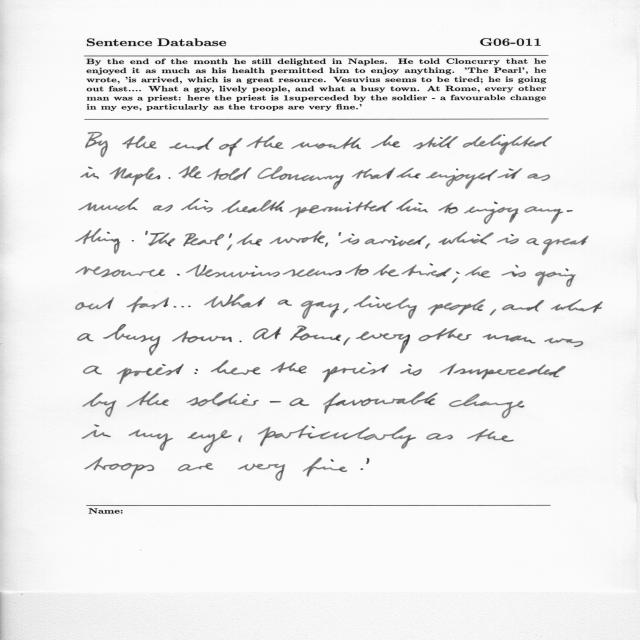word: (258, 425, 416, 449), (323, 392, 438, 414), (258, 166, 344, 190), (439, 364, 566, 380), (449, 394, 525, 419), (463, 134, 552, 155), (103, 324, 160, 356), (289, 201, 393, 218), (353, 295, 417, 319), (85, 457, 154, 479), (426, 169, 498, 190), (117, 364, 184, 384), (322, 362, 389, 382), (186, 264, 280, 278), (464, 202, 518, 225), (356, 332, 410, 354), (76, 228, 121, 254), (187, 430, 232, 453), (186, 392, 259, 406), (128, 429, 173, 451), (76, 267, 165, 278), (110, 167, 161, 186), (428, 299, 486, 315), (542, 236, 589, 255), (524, 206, 573, 224), (303, 457, 347, 477), (204, 294, 266, 308), (83, 392, 117, 417), (291, 137, 361, 149), (221, 200, 285, 213), (290, 325, 341, 341), (238, 464, 285, 481), (438, 231, 494, 245), (79, 198, 139, 211), (535, 268, 576, 287), (211, 360, 261, 375), (269, 231, 325, 244), (551, 299, 603, 313), (172, 331, 232, 343), (127, 296, 169, 313), (418, 328, 472, 341), (126, 391, 169, 407), (301, 301, 339, 319), (365, 236, 427, 247), (401, 264, 452, 277), (467, 429, 514, 442), (413, 136, 459, 149), (169, 137, 214, 150), (207, 167, 252, 180), (86, 132, 108, 157), (184, 233, 225, 246), (246, 135, 284, 149), (483, 334, 536, 344), (76, 297, 114, 310), (352, 168, 396, 179), (181, 198, 213, 213), (396, 198, 428, 213), (283, 269, 342, 277), (502, 300, 544, 311), (122, 136, 157, 149), (219, 138, 242, 157), (271, 362, 307, 374), (82, 425, 111, 439), (148, 233, 175, 247), (371, 135, 400, 148), (253, 327, 281, 340), (544, 338, 583, 347), (373, 264, 399, 277), (237, 233, 262, 246), (465, 266, 491, 278), (501, 265, 526, 277), (179, 166, 202, 179), (345, 264, 369, 276), (178, 463, 214, 471), (396, 168, 421, 179), (497, 168, 522, 179), (400, 364, 422, 376), (80, 166, 99, 179), (438, 202, 458, 214), (497, 234, 519, 244), (340, 234, 359, 245), (426, 433, 453, 440), (528, 173, 550, 181), (83, 366, 102, 375), (289, 398, 310, 406), (153, 204, 173, 212), (77, 333, 94, 341), (278, 299, 292, 306), (526, 238, 539, 245), (452, 272, 460, 283), (344, 338, 351, 346), (227, 245, 233, 251), (173, 306, 191, 308), (490, 309, 496, 315), (426, 243, 431, 249), (343, 309, 349, 314), (239, 435, 243, 442), (366, 458, 370, 464), (270, 401, 281, 403), (194, 369, 198, 374), (229, 233, 232, 238), (325, 242, 328, 247), (145, 231, 148, 235), (339, 232, 342, 236), (168, 177, 171, 179), (177, 274, 180, 276), (361, 468, 364, 470), (132, 240, 134, 242), (239, 341, 242, 342)
